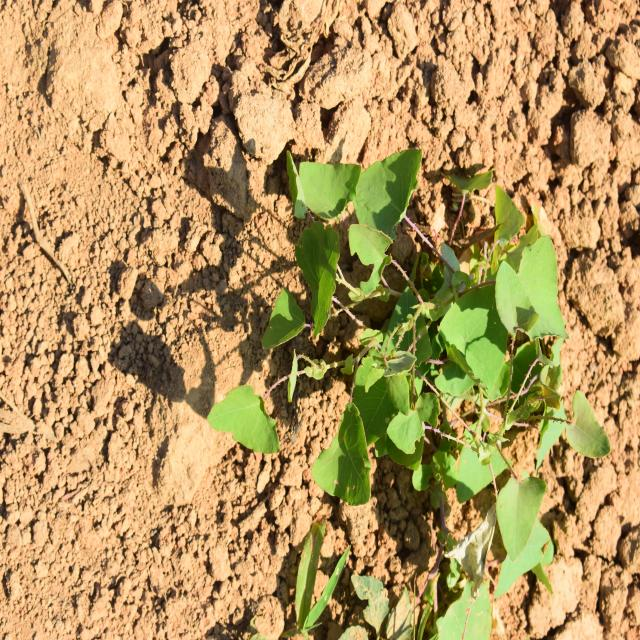Asiatic_Smartweed: (238, 134, 431, 506), (429, 220, 592, 586)
